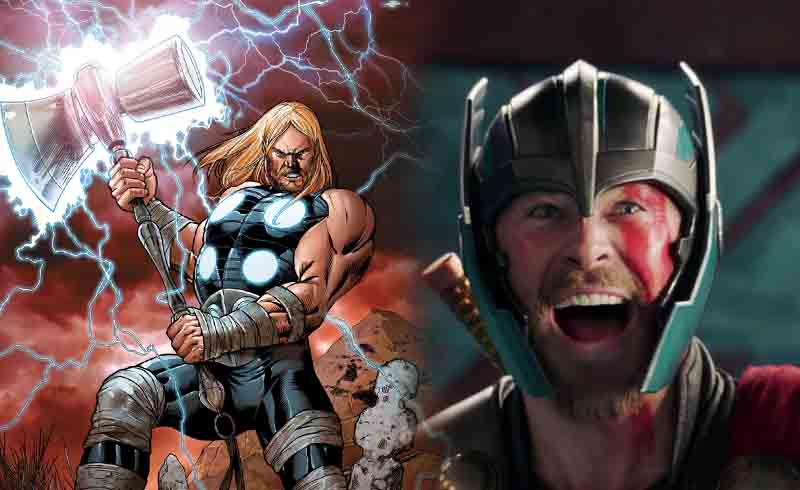THOR Hammer: (3, 32, 207, 364)
